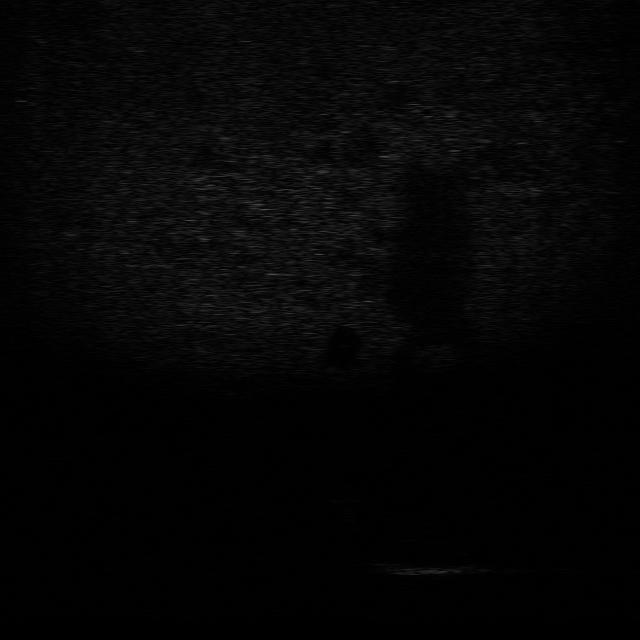ball: (324, 483, 370, 503)
metal bucket: (372, 556, 478, 582)
tyre: (399, 517, 469, 545)
